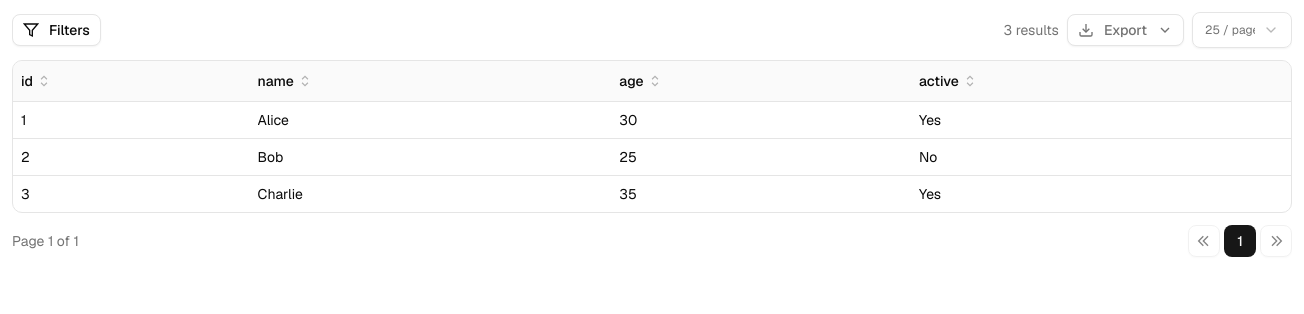
Test case: DataTable › Filtering › shows filter row when filter button clicked
Click the button "Filters" at (56, 30), box [12,14,101,46]
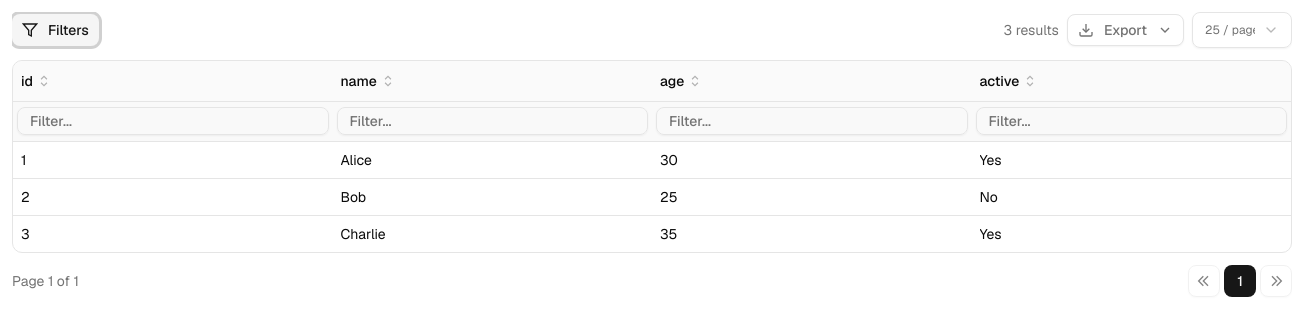
Now the number of fields with placeholder "Filter..." is 4, box [17,107,328,135]; [336,107,648,135]; [656,107,968,135]; [976,107,1287,135]
